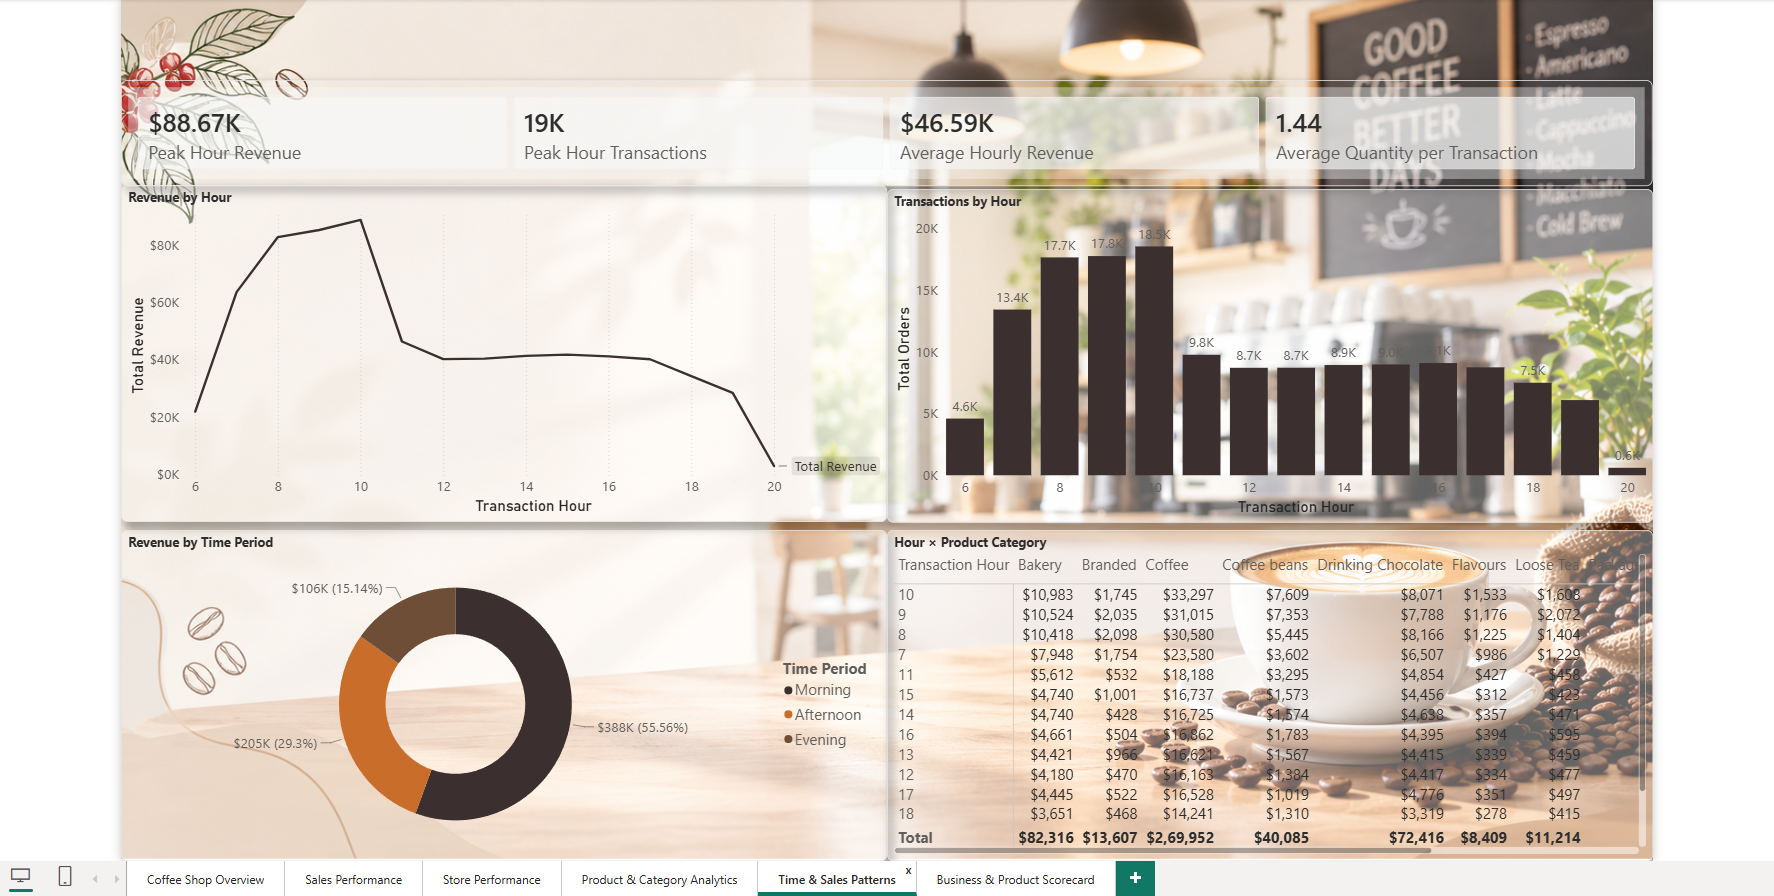

The page's visual inventory and layout, read from the dashboard file:
{"tool":"powerbi","page":{"name":"Time & Sales Patterns","canvas":[1920,1080],"ordinal":4},"visuals":[{"type":"cardVisual","fields":{"Data":["Coffee Shop Sales.Peak Hour Revenue","Coffee Shop Sales.Peak Hour Transactions","Coffee Shop Sales.Average Hourly Revenue","Coffee Shop Sales.Average Quantity per Transaction"]},"box":[0,101.1,1919.3,133],"z":0},{"type":"lineChart","title":"Revenue by Hour","fields":{"Y":["Coffee Shop Sales.Total Revenue"],"Category":["Coffee Shop Sales.Transaction Hour"]},"box":[0,233.4,960,421.6],"z":1000},{"type":"clusteredColumnChart","title":"Transactions by Hour","fields":{"Y":["Coffee Shop Sales.Total Orders"],"Category":["Coffee Shop Sales.Transaction Hour"]},"box":[960.3,238.1,960.3,417.6],"z":2000},{"type":"donutChart","title":"Revenue by Time Period","fields":{"Y":["Coffee Shop Sales.Total Revenue"],"Category":["Coffee Shop Sales.Time Period"]},"box":[0,665,960,415],"z":3000},{"type":"pivotTable","title":"Hour × Product Category","fields":{"Rows":["Coffee Shop Sales.Transaction Hour"],"Columns":["Coffee Shop Sales.product_category"],"Values":["Coffee Shop Sales.Total Revenue"]},"box":[960,665,960,415],"z":4000}]}

Visuals, with their boxes on the page's 1920x1080 design canvas (x1, y1, x2, y2). These are canvas units, not pixel positions in the 1774x896 screenshot, which may show the page scaled, cropped or inside an application window:
cardVisual - Coffee Shop Sales.Peak Hour Revenue x Coffee Shop Sales.Peak Hour Transactions: {"left": 0, "top": 101, "right": 1919, "bottom": 234}
"Revenue by Hour" lineChart: {"left": 0, "top": 233, "right": 960, "bottom": 655}
"Transactions by Hour" clusteredColumnChart: {"left": 960, "top": 238, "right": 1921, "bottom": 656}
"Revenue by Time Period" donutChart: {"left": 0, "top": 665, "right": 960, "bottom": 1080}
"Hour × Product Category" pivotTable: {"left": 960, "top": 665, "right": 1920, "bottom": 1080}
